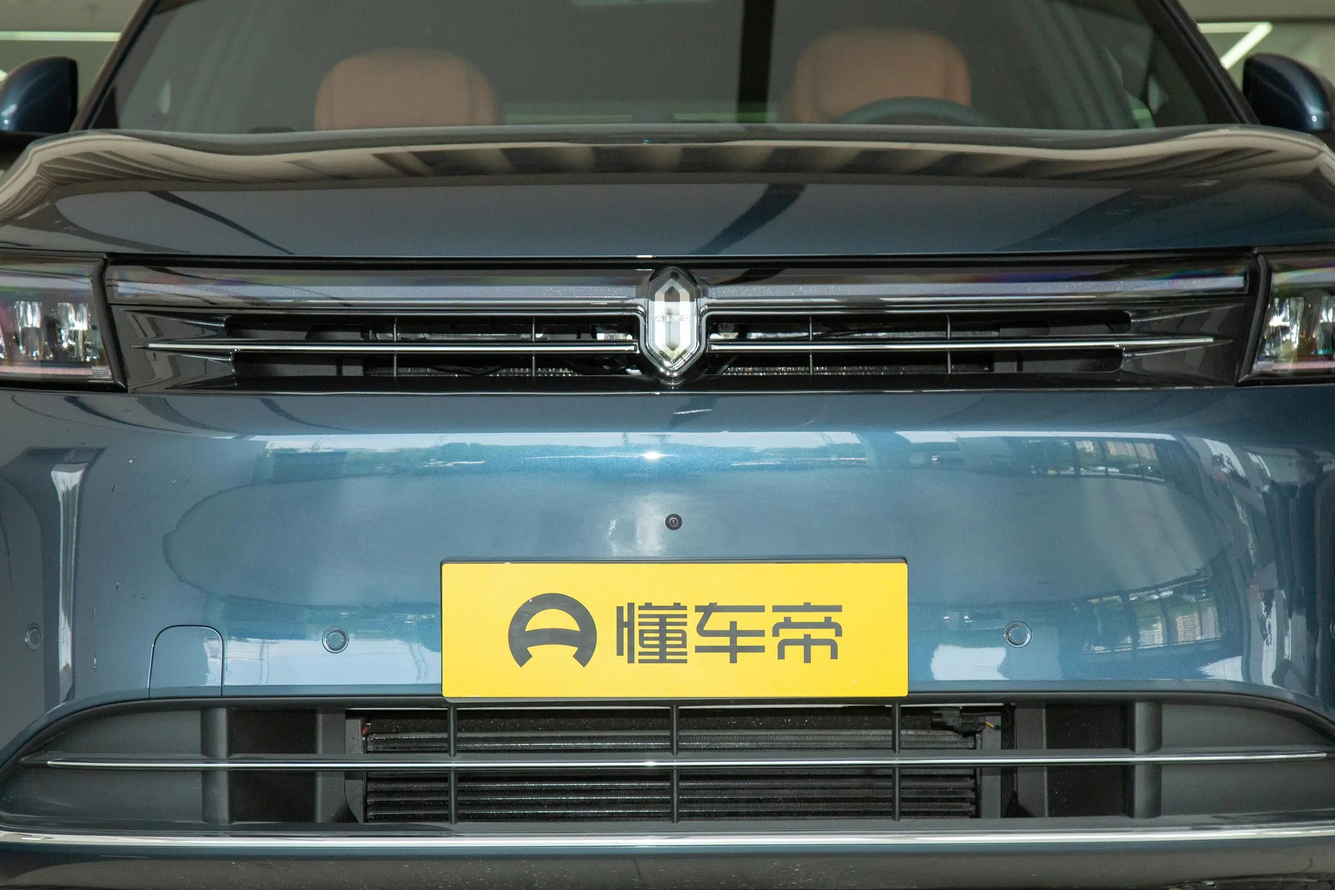AITO: (655, 280, 689, 359)
